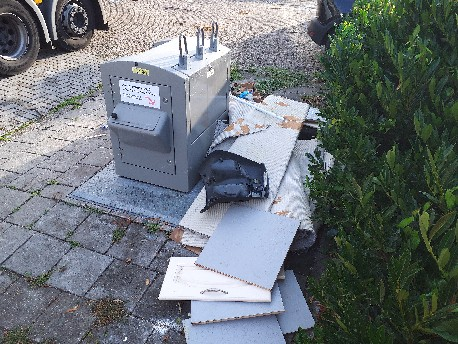Container: (109, 49, 223, 206)
Rest: (215, 99, 308, 213), (165, 271, 290, 334), (189, 216, 307, 282)
